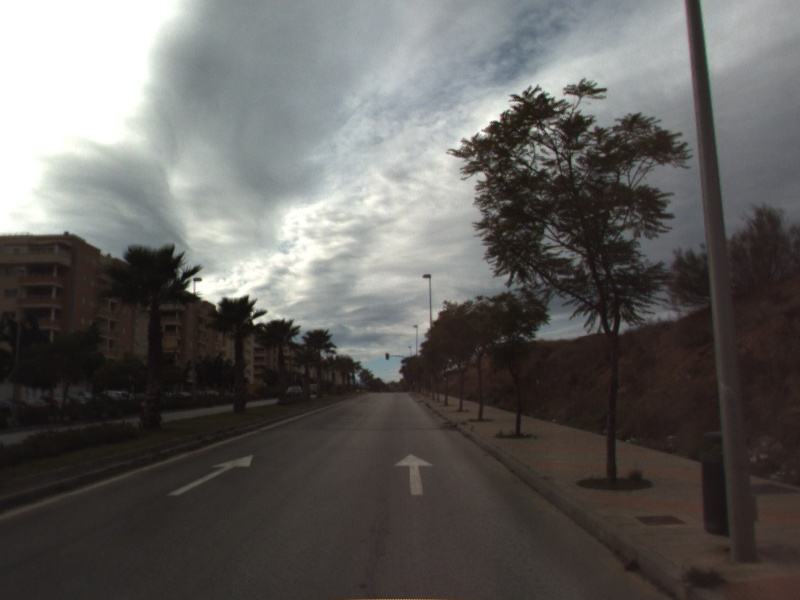STRAIGHT: (164, 452, 256, 498), (392, 451, 437, 497)
